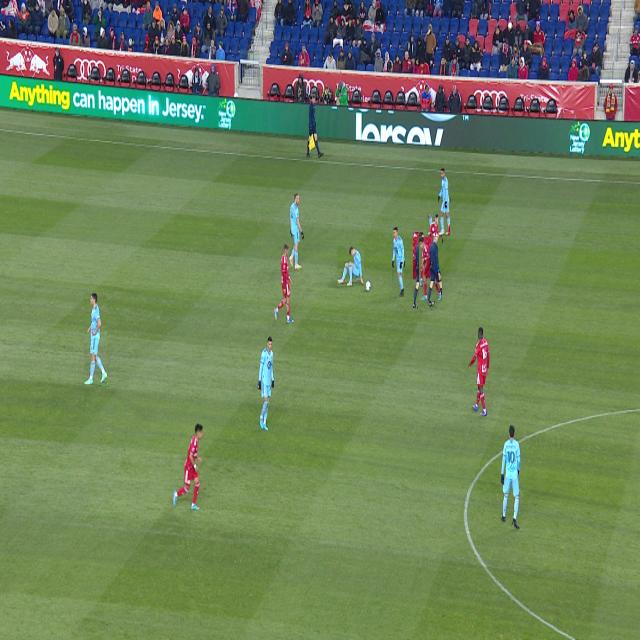football: (365, 280, 371, 291)
player: (173, 424, 203, 510), (85, 293, 107, 385), (501, 425, 520, 529), (469, 327, 490, 416), (274, 244, 294, 323), (258, 337, 274, 431), (420, 237, 442, 301), (289, 193, 304, 269), (337, 246, 364, 286), (428, 214, 442, 287), (438, 168, 450, 235), (393, 227, 404, 297)
referee: (413, 232, 435, 309)
